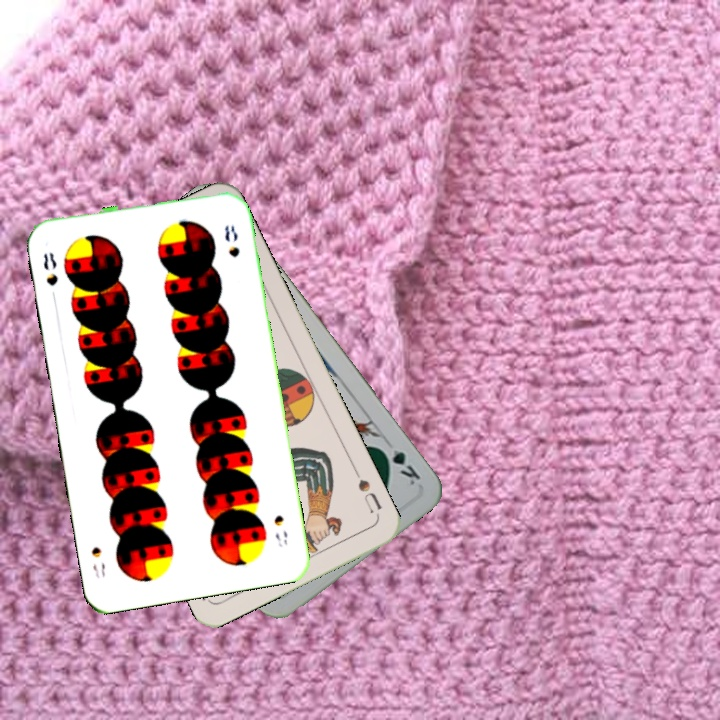GK: (375, 443, 424, 488)
S8: (39, 248, 61, 289), (270, 511, 291, 550)
SU: (349, 464, 385, 516)
